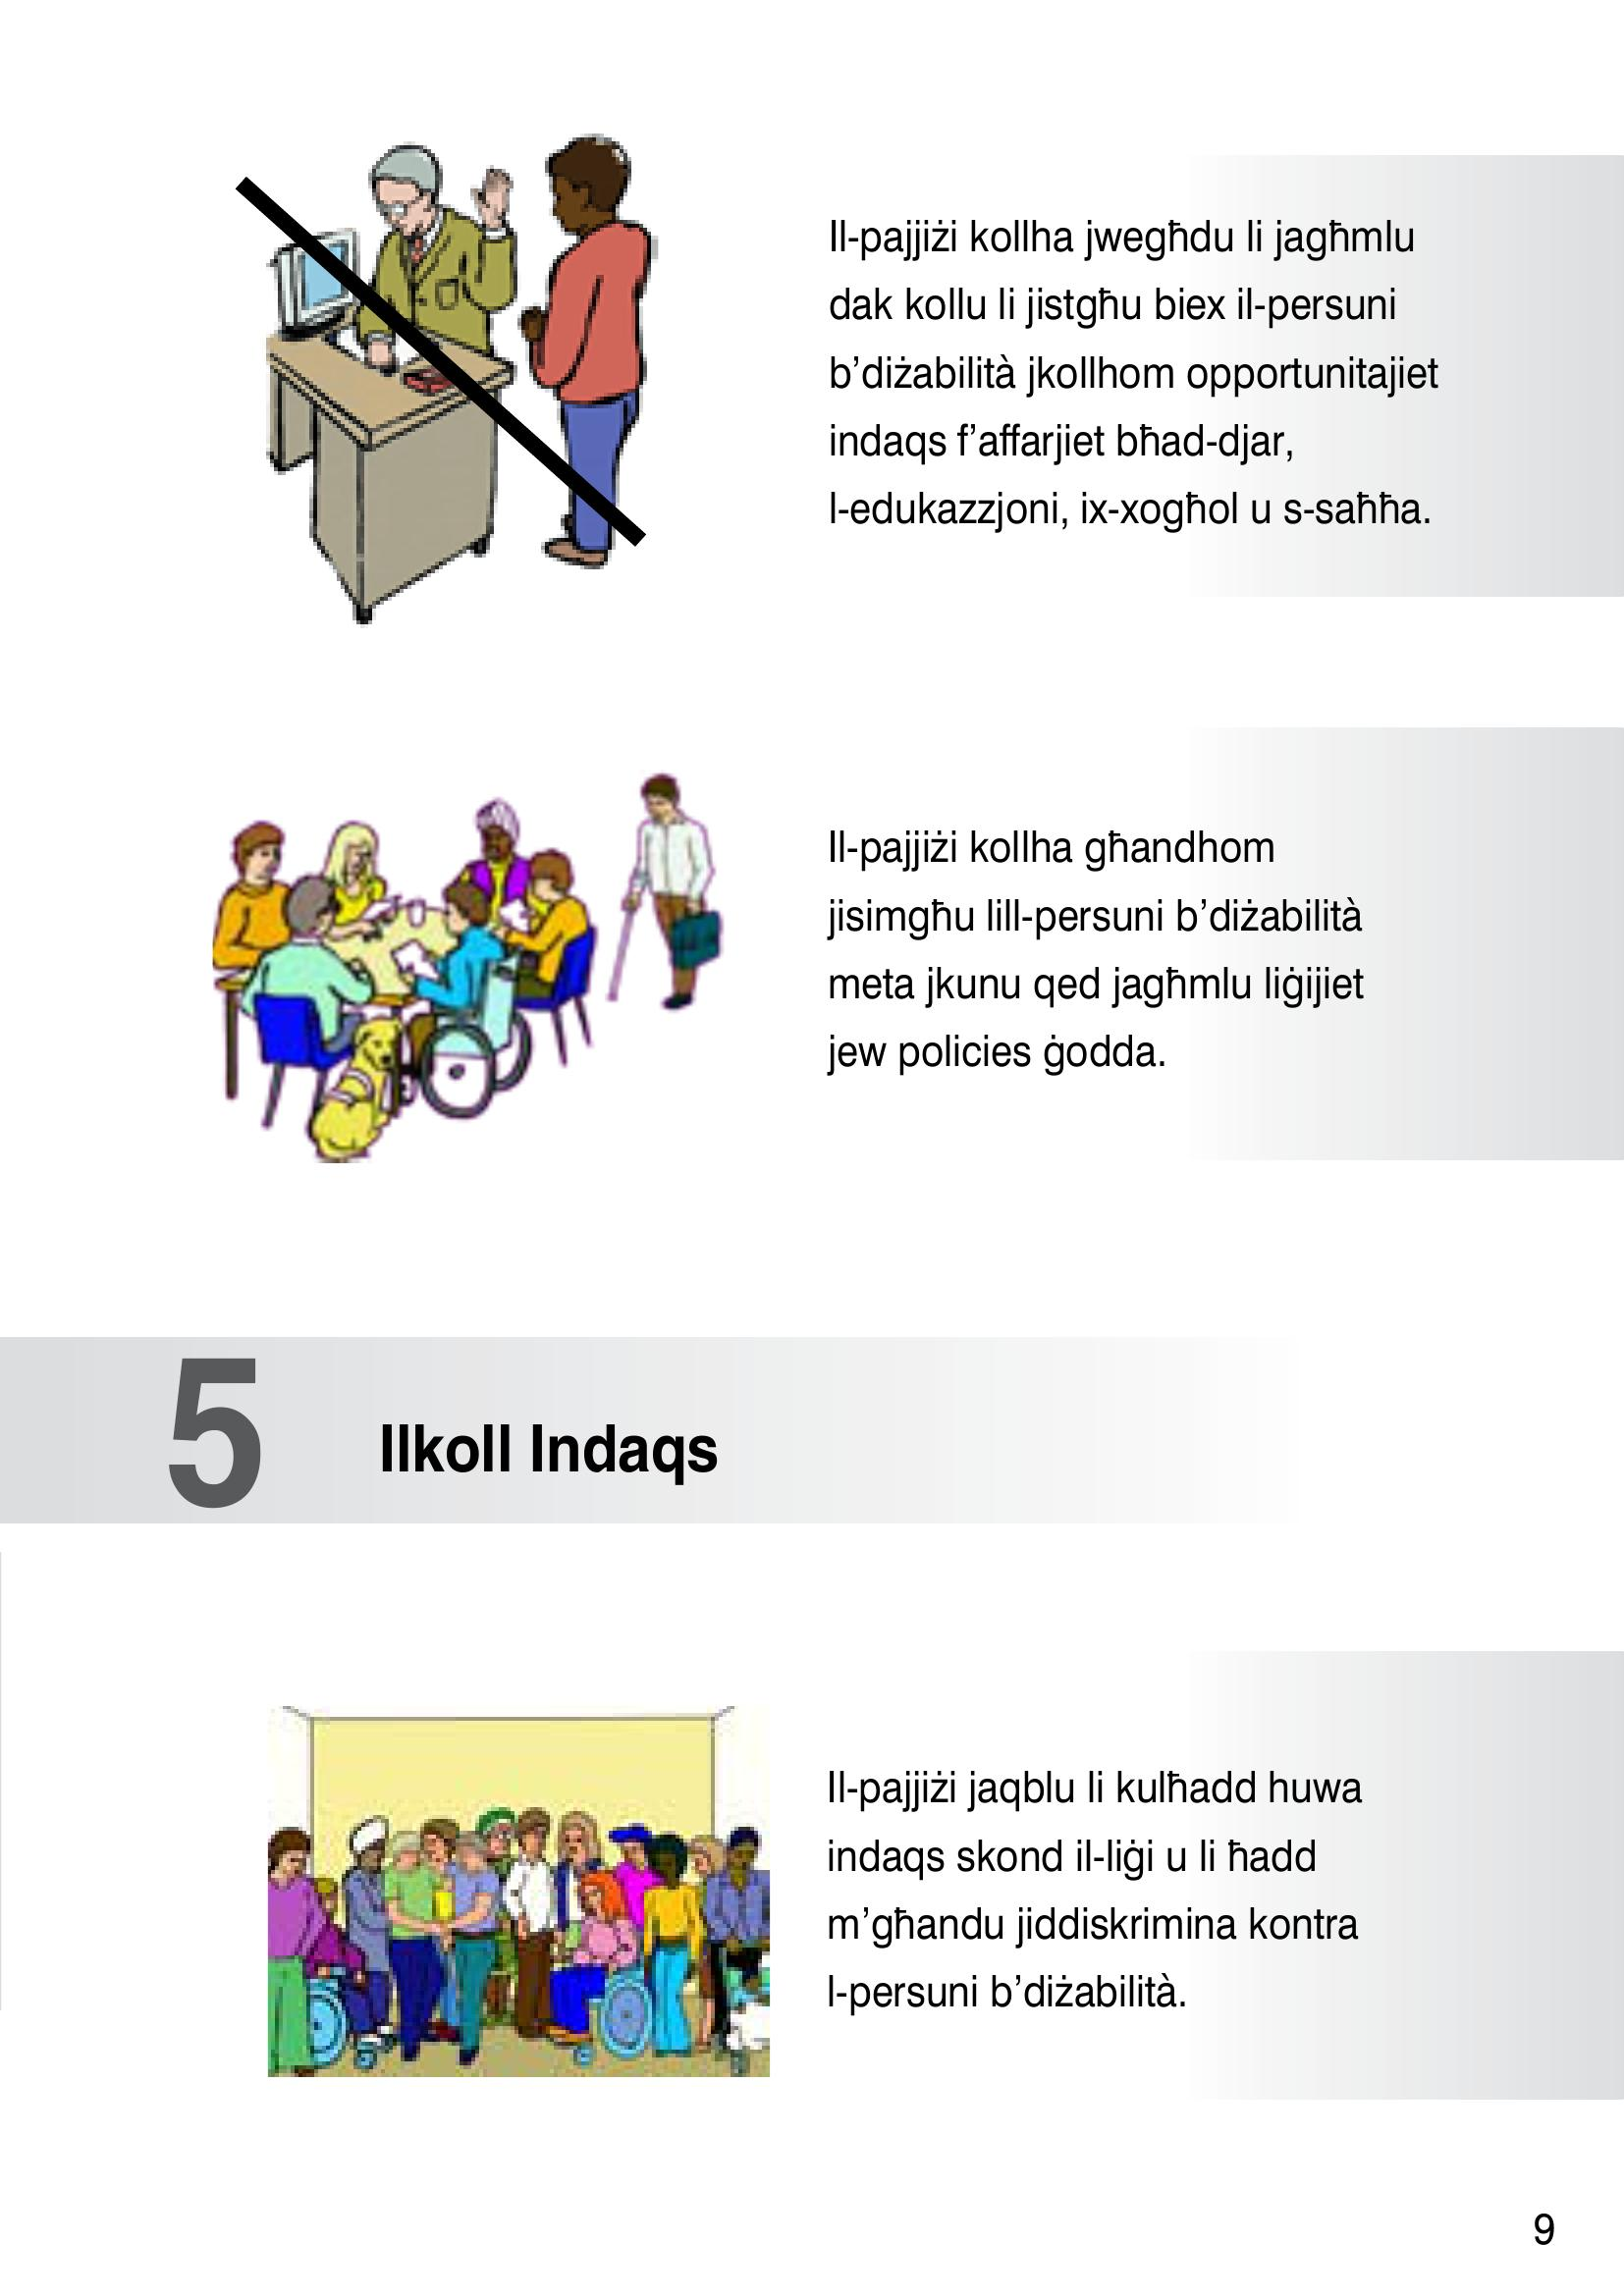text: (793, 191, 1483, 1114), (808, 1743, 1380, 2034), (130, 1346, 733, 1521)
